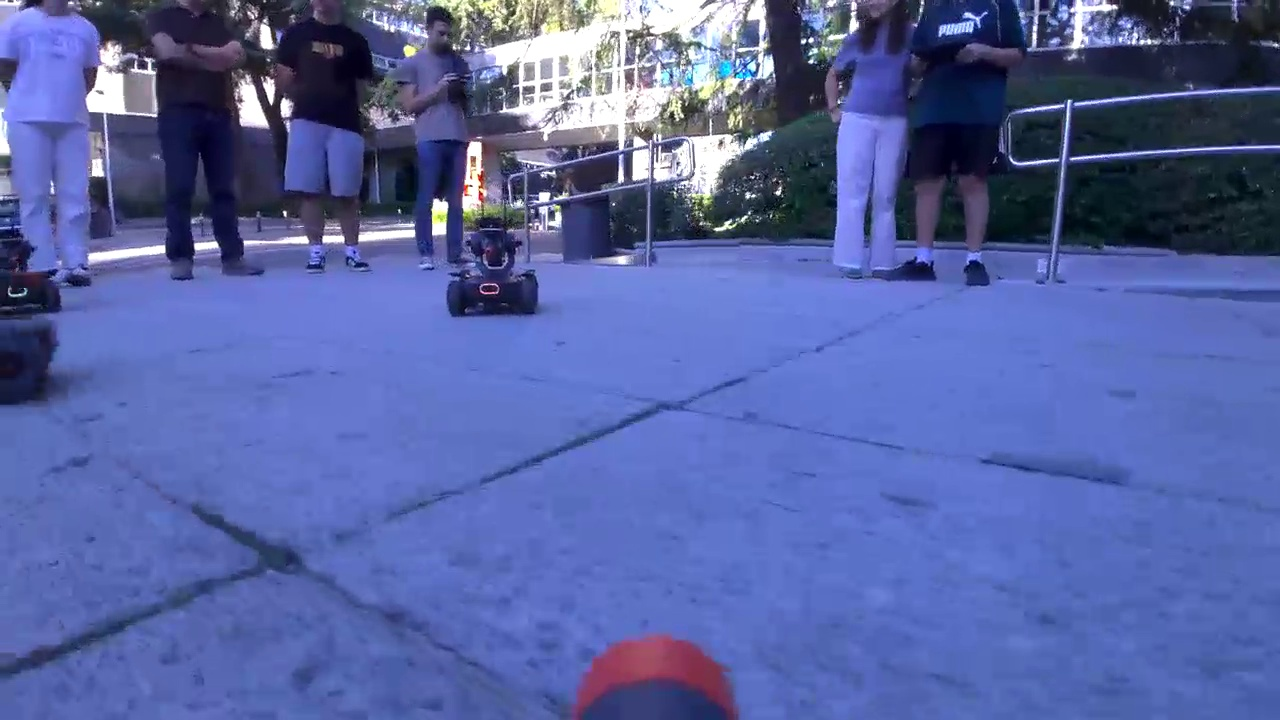robot: (446, 219, 540, 317), (1, 245, 62, 312)
